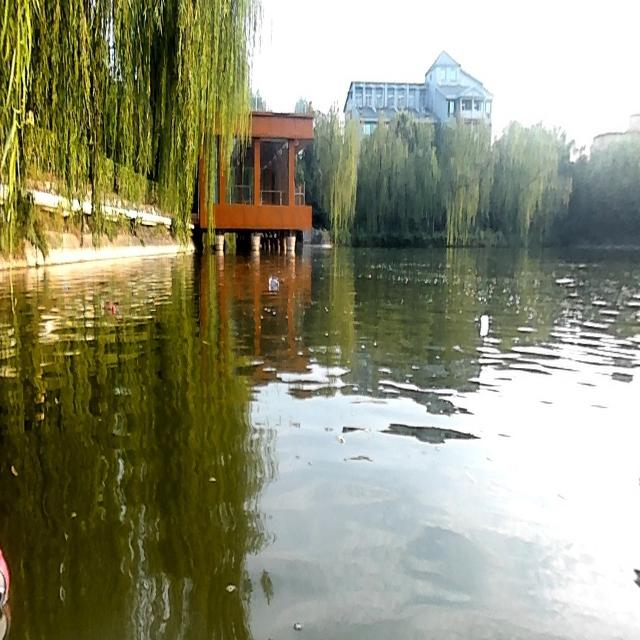bottle: (267, 275, 279, 287)
